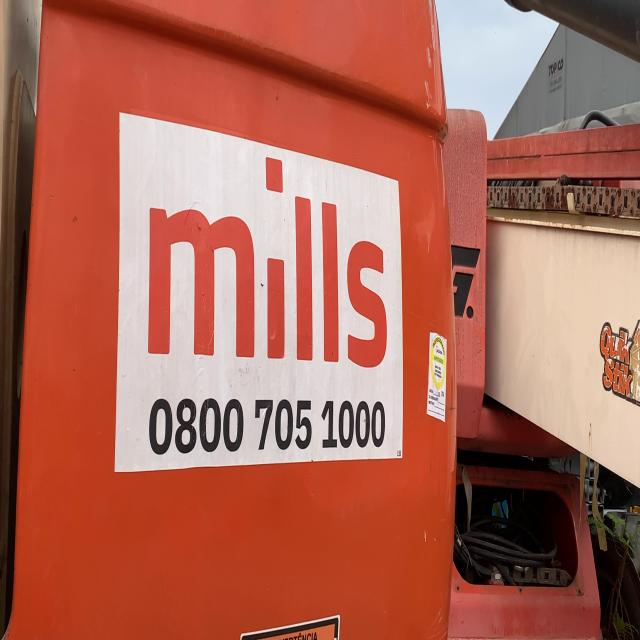Adesivos: (112, 105, 405, 478)
